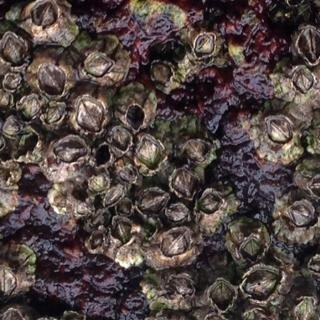Barnacle: (241, 268, 280, 304), (37, 61, 65, 96), (75, 98, 103, 133), (134, 139, 164, 170), (56, 136, 88, 164), (160, 230, 188, 258), (0, 35, 25, 66), (31, 2, 59, 29), (171, 171, 199, 198), (287, 201, 313, 229), (297, 31, 319, 62), (266, 118, 292, 144), (138, 192, 167, 215), (87, 53, 112, 79), (0, 266, 18, 300), (212, 282, 233, 310), (183, 139, 207, 163), (18, 96, 41, 121), (197, 192, 223, 214), (193, 33, 215, 58), (111, 219, 133, 244), (292, 68, 311, 96), (168, 275, 192, 297), (152, 62, 173, 86), (45, 103, 66, 126), (166, 204, 189, 223), (238, 238, 259, 258), (87, 174, 106, 196), (2, 118, 22, 138), (4, 70, 23, 91), (111, 130, 130, 151), (296, 299, 315, 319), (116, 163, 135, 182), (104, 186, 123, 205), (90, 211, 108, 229), (77, 196, 92, 216), (116, 199, 132, 216), (0, 164, 12, 185), (0, 88, 11, 108), (89, 234, 104, 248), (309, 256, 319, 273), (307, 0, 319, 11)
